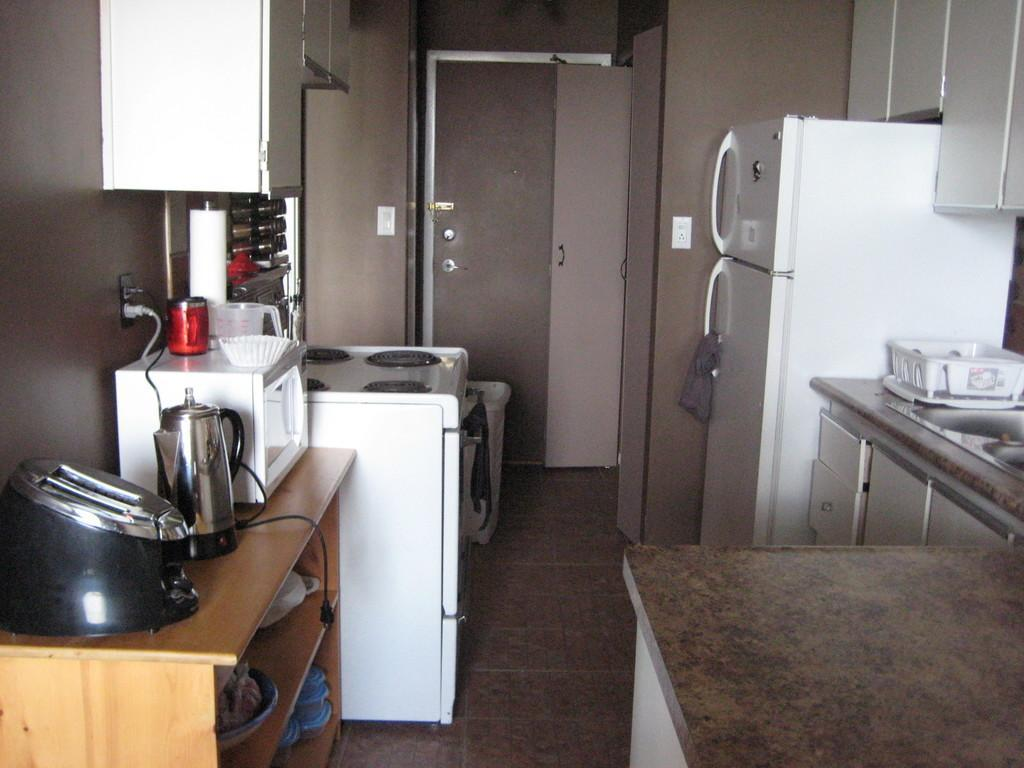door: (434, 58, 602, 461)
handle: (444, 258, 470, 276)
